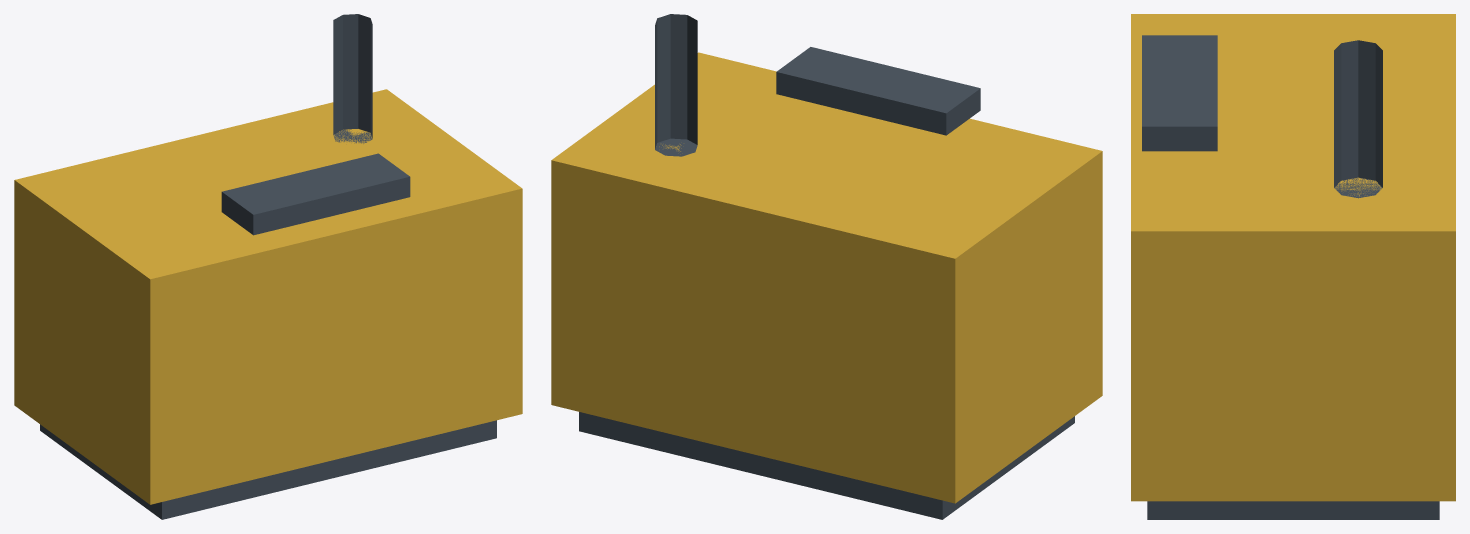
The model's file is generator_01.glb.
The picture shows the model from 3 angles, left to right: view 1: azimuth 30°, elevation 25°; view 2: azimuth 150°, elevation 25°; view 3: azimuth 270°, elevation 25°; orthographic projection. The views are drawn at different scales.
Visible parts, largest first — view 1: generator_01; view 2: generator_01; view 3: generator_01.
Boxes of the visible parts, box(x1,y1,x2,y2) form: generator_01: box(14, 14, 522, 519); generator_01: box(551, 14, 1102, 519); generator_01: box(1131, 14, 1455, 519).
Size of the model in its own units: 0.95 by 0.89 by 0.6.
